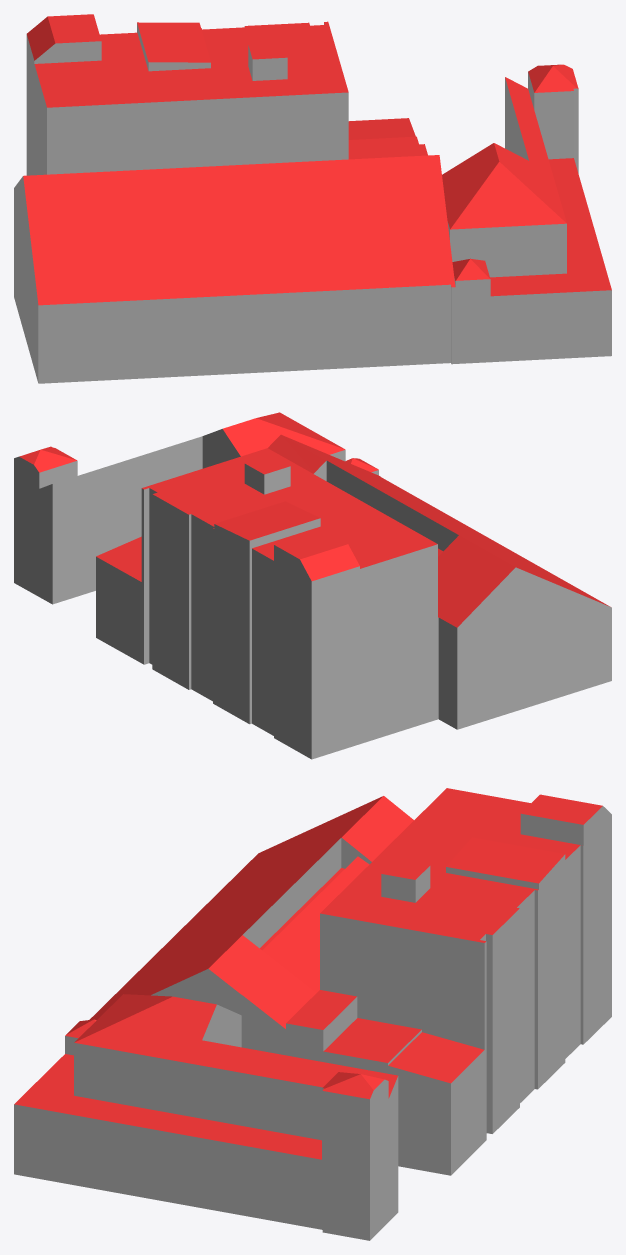
The model's file is DEBY_LOD2_4906967.dae.
The picture shows the model from 3 angles, top to bottom: view 1: azimuth 30°, elevation 25°; view 2: azimuth 150°, elevation 25°; view 3: azimuth 270°, elevation 25°; orthographic projection. The views are drawn at different scales.
Size of the model in its own units: 75 by 62.29 by 25.51.
